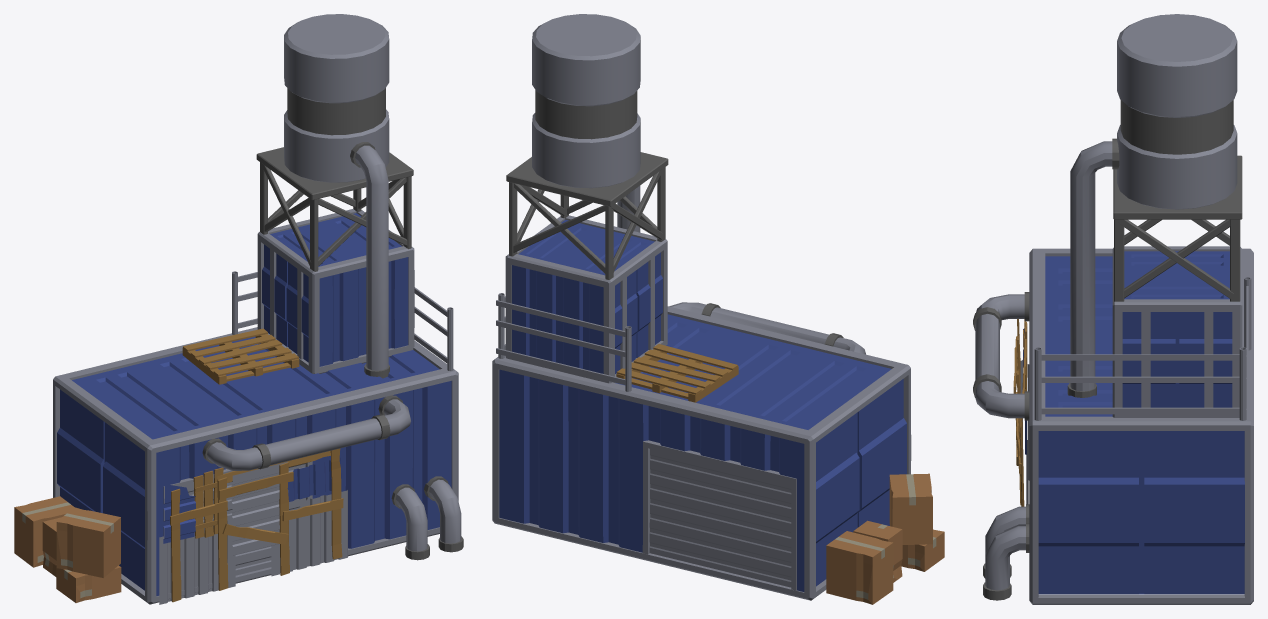
File: Structure.gltf
The picture shows the model from 3 angles, left to right: view 1: azimuth 30°, elevation 25°; view 2: azimuth 150°, elevation 25°; view 3: azimuth 270°, elevation 25°; orthographic projection. The views are drawn at different scales.
Parts seen in each view (by area): view 1: Structure_3; view 2: Structure_3; view 3: Structure_3.
Part boxes in pixels (left/top/right/bottom): Structure_3: left=14, top=14, right=463, bottom=604; Structure_3: left=492, top=14, right=944, bottom=604; Structure_3: left=973, top=14, right=1253, bottom=604.
Size of the model in its own units: 7.87 by 9.52 by 4.52.
